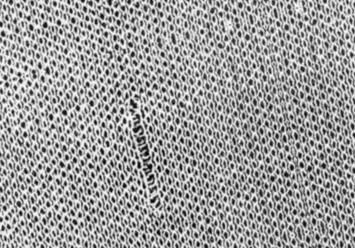slub: (118, 94, 167, 217)
